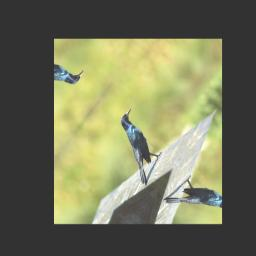Crow: (98, 107, 176, 187)
